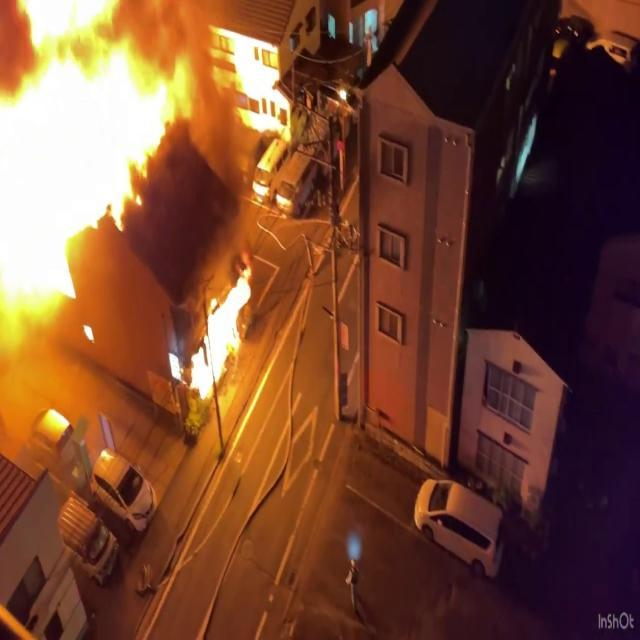Fire: (0, 1, 183, 327), (184, 259, 256, 404)
